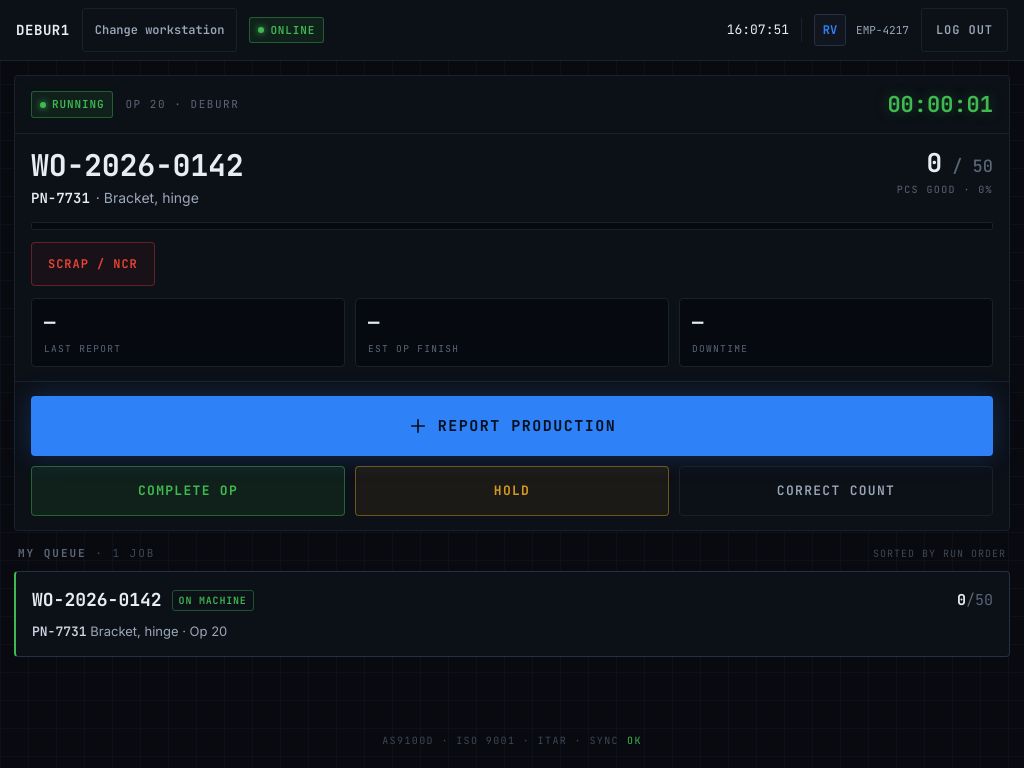
Test case: operator kiosk workstation selection › honors legacy links and updates their workstation when changed without clocking out
Click the button "Change workstation" at (160, 30), box [82,8,237,52]
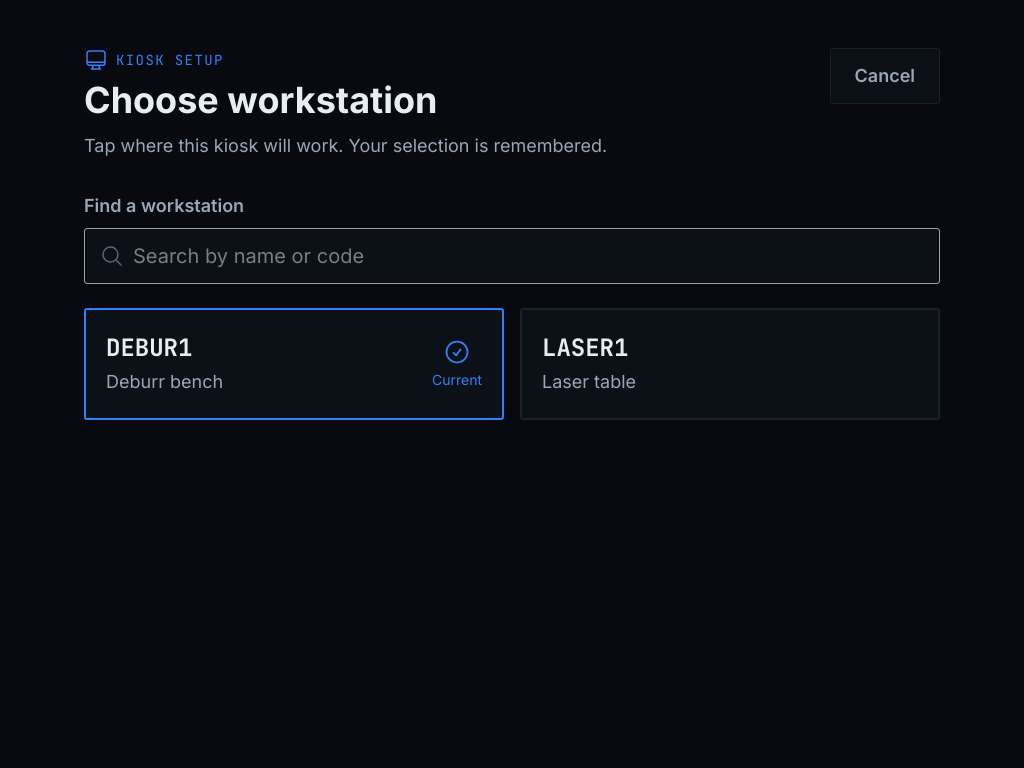
Click the button "LASER1 Laser table" at (585, 348), box [520,308,940,420]
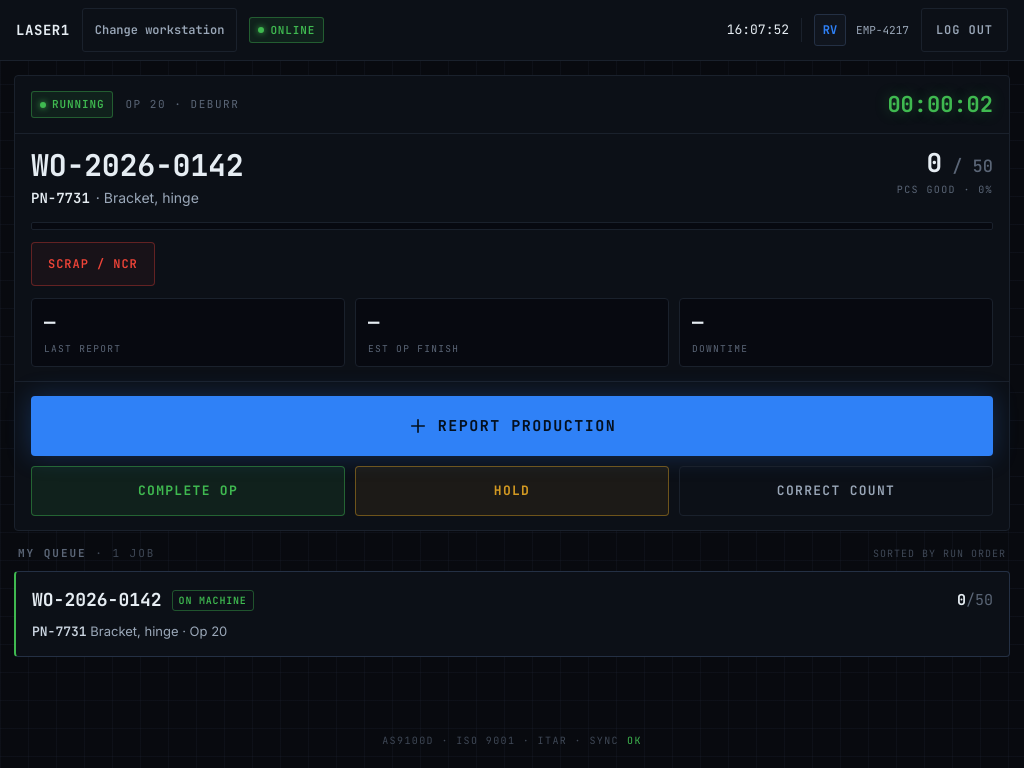
Check: the button "Report production" is shown, box [31,396,993,456]
